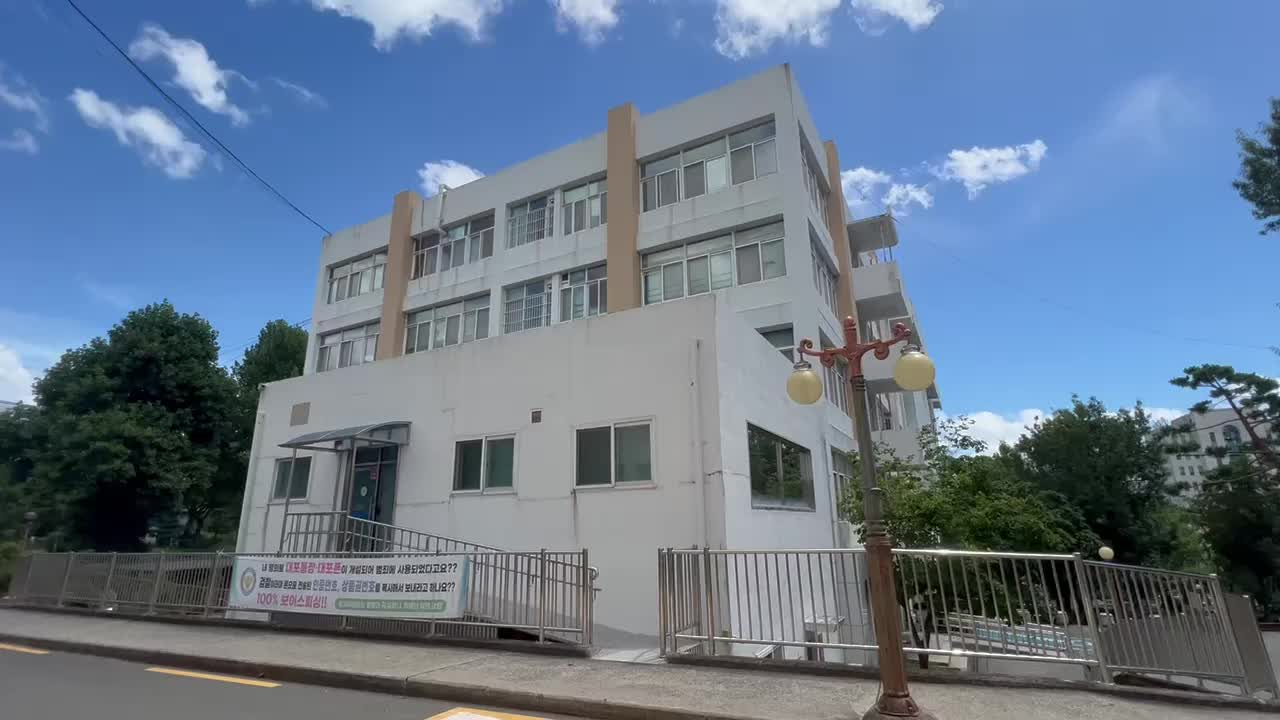low: (260, 126, 790, 538)
